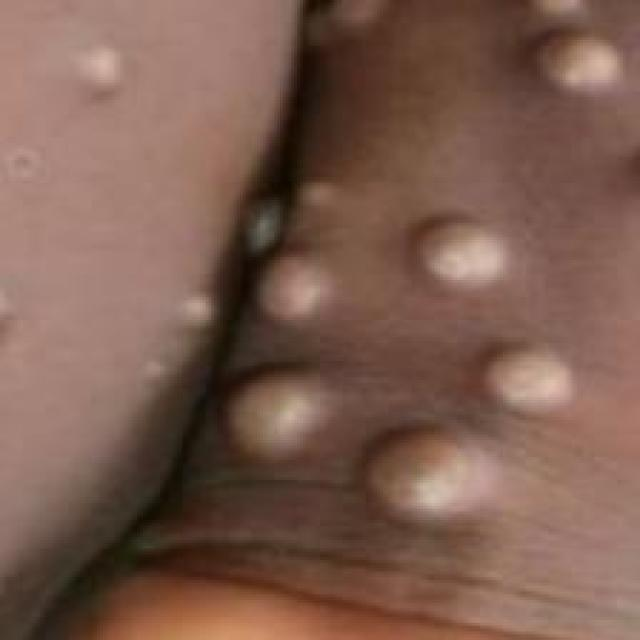monkeypox: (17, 0, 640, 569)
